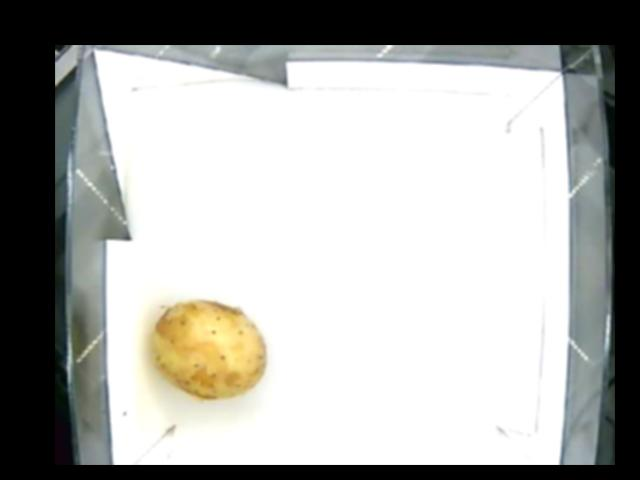Potato: (153, 297, 265, 396)
